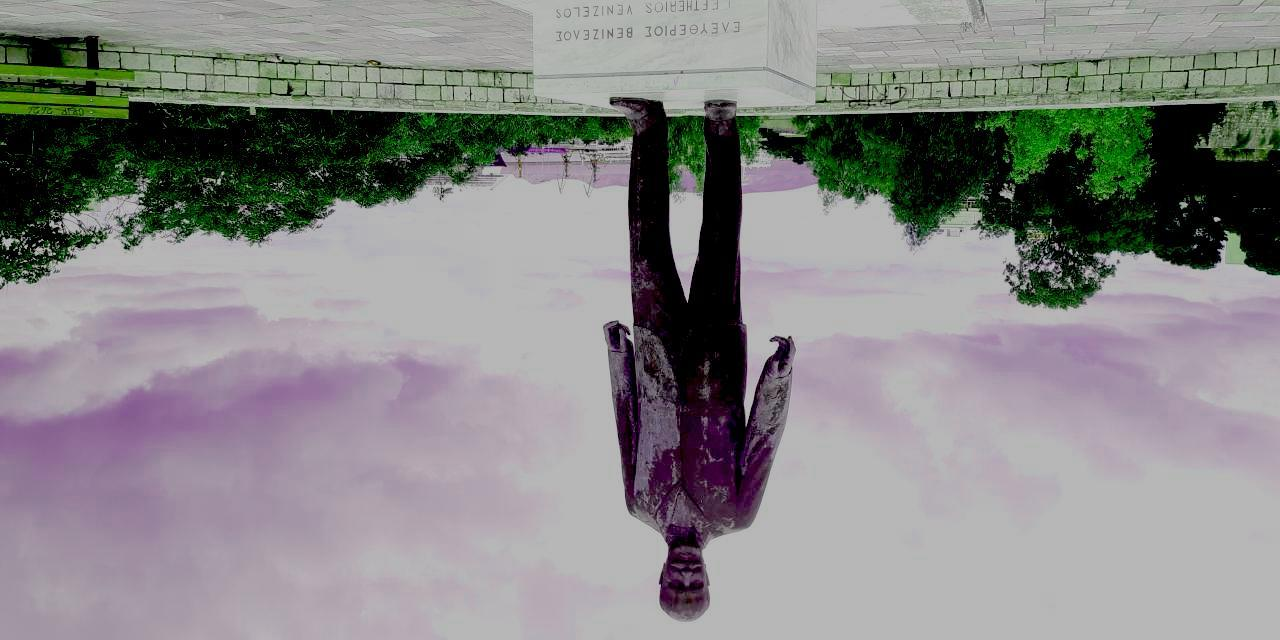Venizelos: (604, 96, 790, 624)
